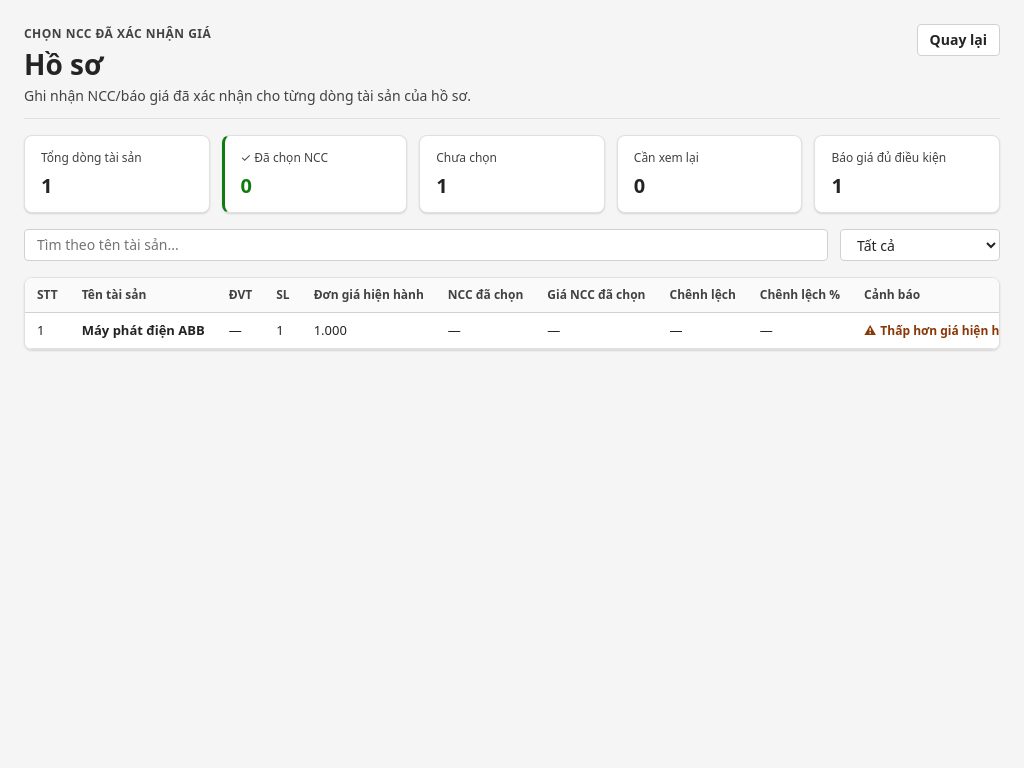
Test: NccSelectionPage › displays candidate comparison with server prices, delta, em dash percent, evidence summary, and exactly one primary confirmation CTA
Click the row named "Xem chi tiết: Máy phát điện ABB" at coordinates (524, 330), box x1=25 y1=312 x2=1023 y2=348
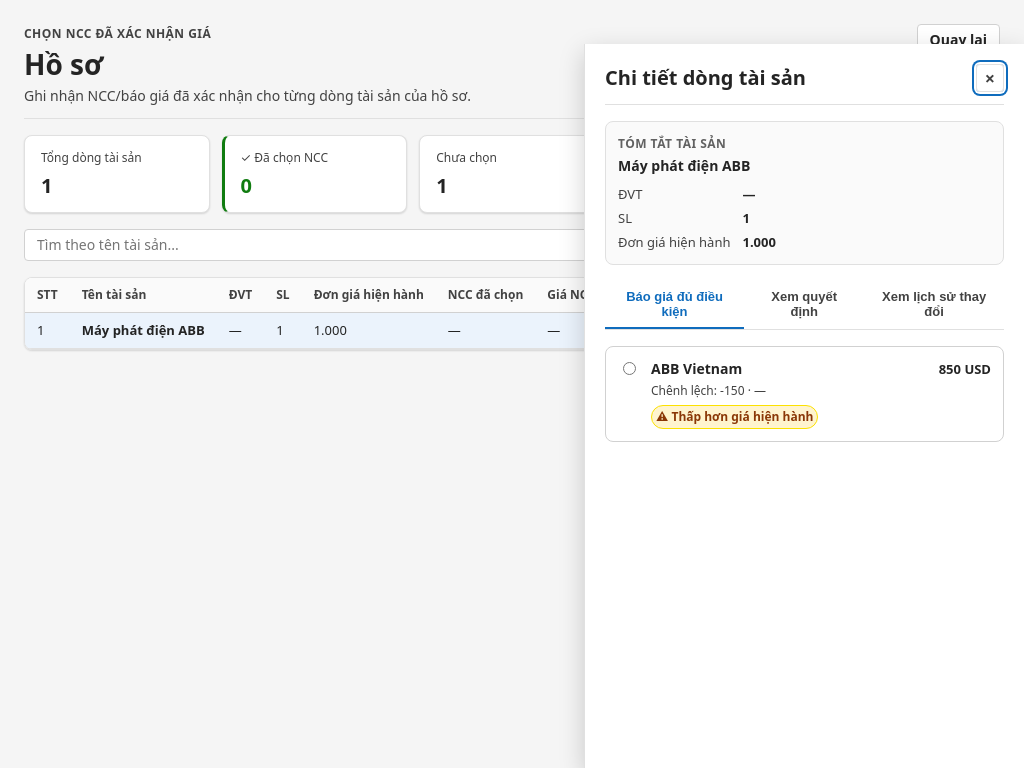
Click the radio button at coordinates (630, 368), box x1=623 y1=362 x2=636 y2=375
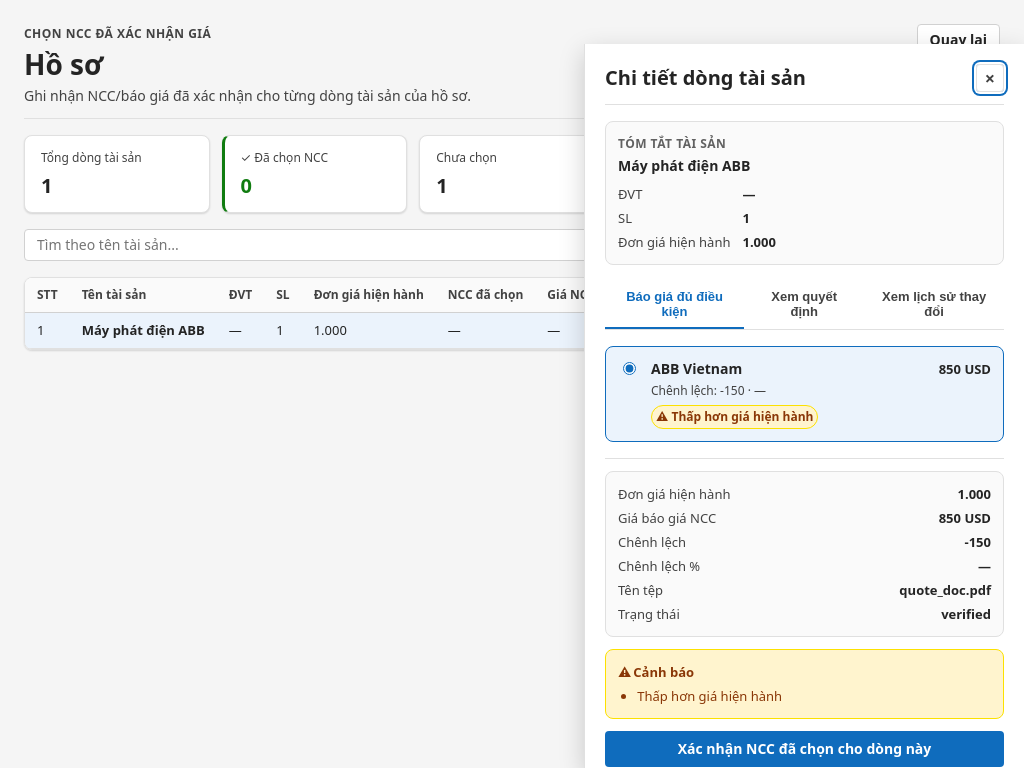
Check: the text "quote_doc.pdf" is shown, box x1=899 y1=580 x2=991 y2=600
Check: the text "verified" is shown, box x1=941 y1=605 x2=991 y2=623
